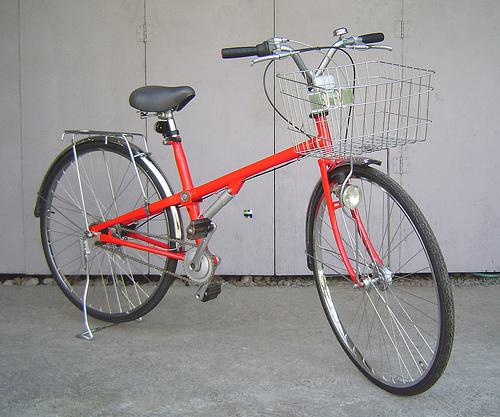car: (39, 33, 457, 396)
